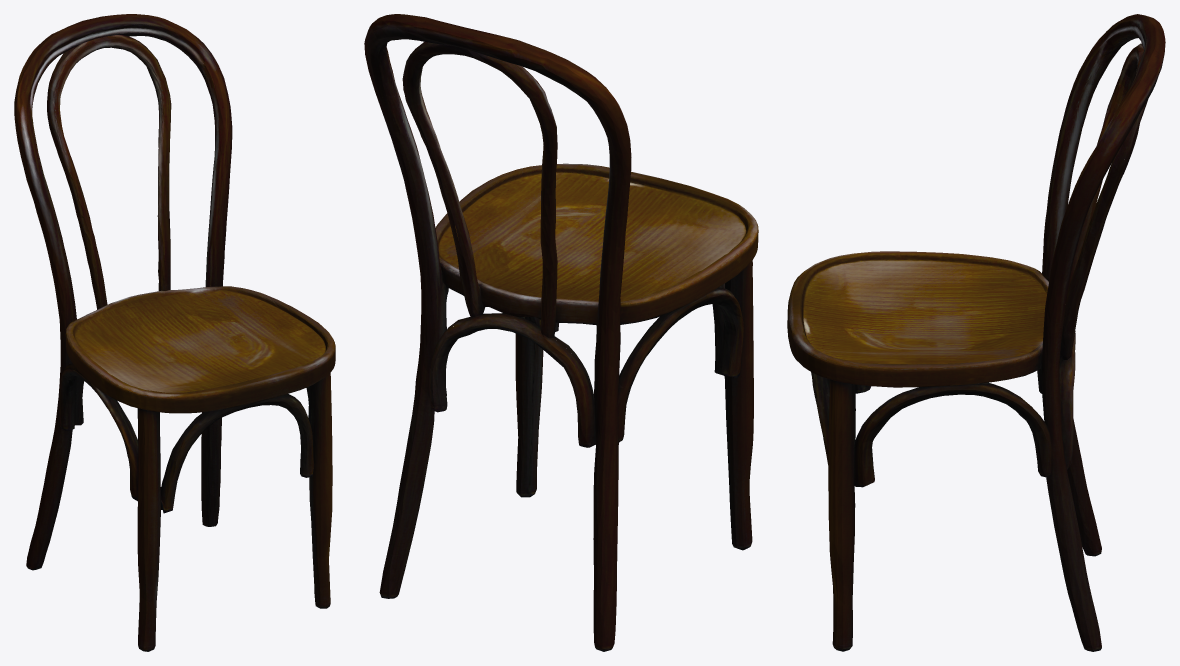
The model's file is chair_wood_brown_my2.glb.
3 views of the same model, side by side, from view 1: azimuth 30°, elevation 25°; view 2: azimuth 150°, elevation 25°; view 3: azimuth 270°, elevation 25° (orthographic). The views are drawn at different scales.
Parts seen in each view (by area): view 1: world; view 2: world; view 3: world.
Part boxes in pixels (<box>): world: <box>14,14,335,651</box>; world: <box>364,14,758,651</box>; world: <box>787,14,1165,651</box>.
Size of the model in its own units: 0.3925 by 0.8733 by 0.5304.
Materials: 1 (1 with a texture image).
